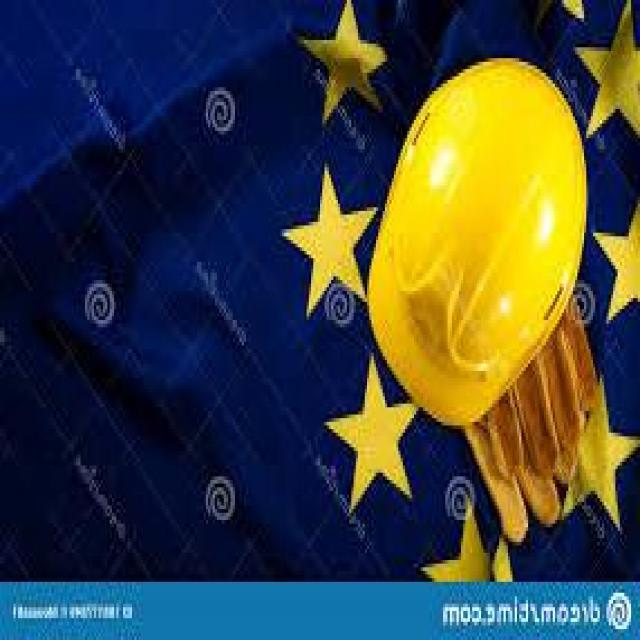Safety-Helmet: (365, 55, 593, 418)
